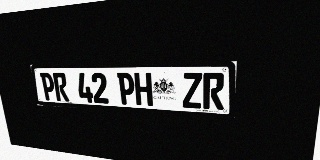2: (91, 73, 109, 104)
4: (76, 73, 94, 103)
H: (134, 73, 153, 106)
P: (117, 73, 136, 105), (40, 73, 56, 101)
R: (203, 73, 225, 110), (52, 73, 69, 101)
Z: (182, 73, 202, 109)
